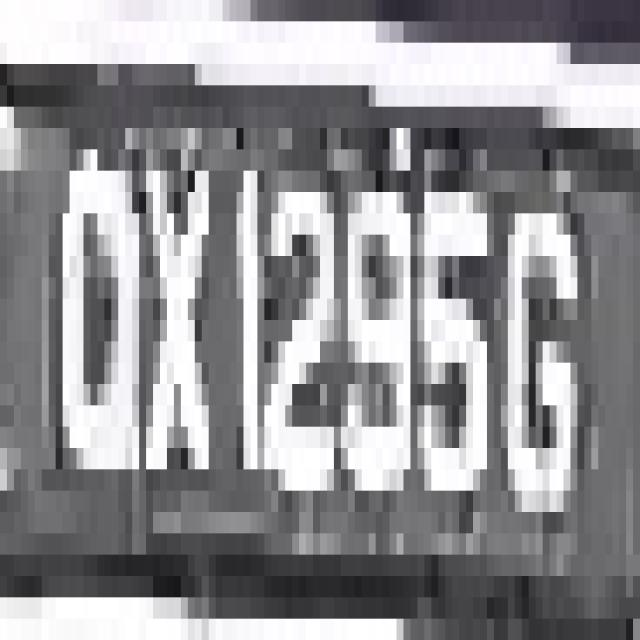1: (223, 128, 264, 555)
2: (250, 64, 341, 576)
5: (417, 128, 494, 576)
9: (341, 107, 417, 533)
G: (494, 149, 591, 576)
Q: (49, 86, 153, 534)
X: (125, 86, 223, 534)
